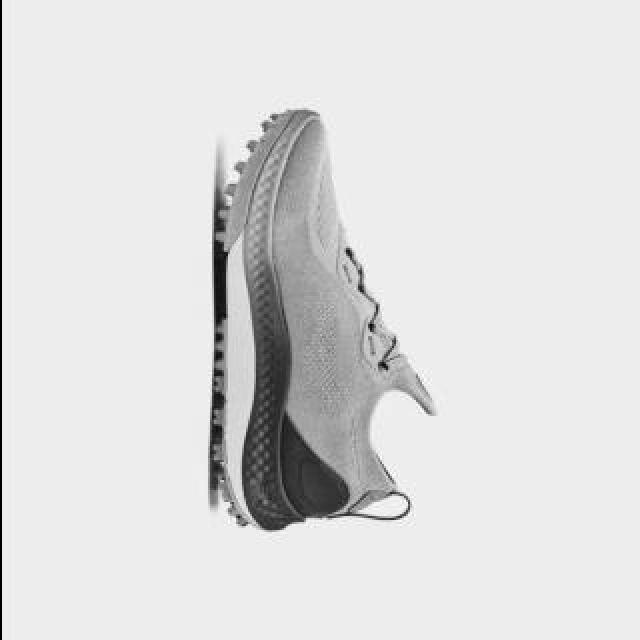shoe: (211, 108, 439, 532)
